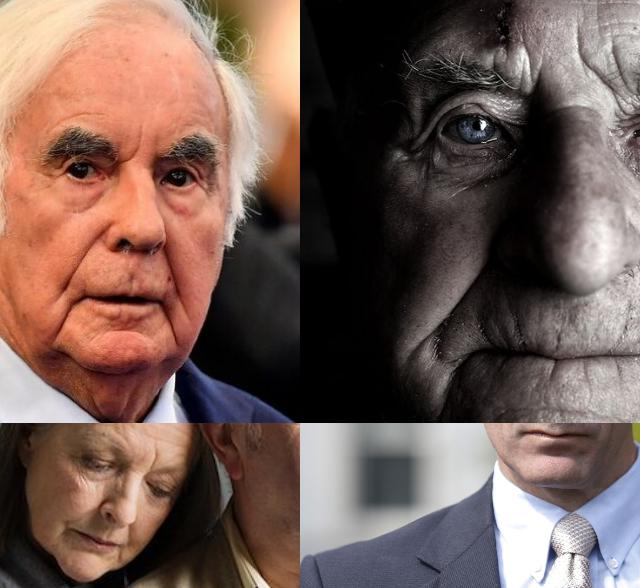chin: (527, 398, 612, 423)
crows_feet: (401, 130, 429, 164)
forehead: (58, 104, 114, 124)
frown_line: (571, 38, 635, 95), (512, 45, 544, 97), (124, 130, 144, 168), (146, 446, 162, 474)
gummy_smile: (436, 248, 494, 322), (62, 226, 98, 282), (157, 246, 183, 294)
sad_smile: (429, 359, 465, 409), (53, 298, 77, 344), (159, 311, 187, 345)
smoker_lines: (506, 308, 536, 342)
